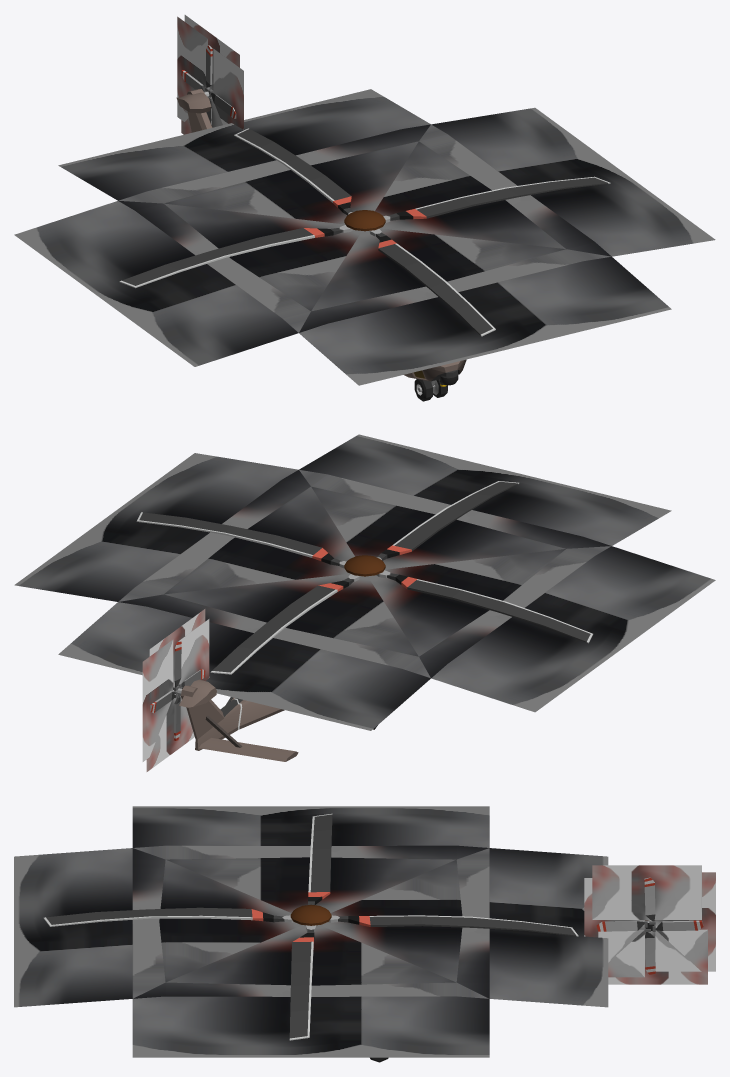
File: Helicopter.glb
3 views of the same model, one above another, from view 1: azimuth 30°, elevation 25°; view 2: azimuth 150°, elevation 25°; view 3: azimuth 270°, elevation 25° (orthographic).
Parts seen in each view (by area): view 1: RotorBlur (×4), TopRotor, RotorBlurBack (×3), Nh90Body, TailRotor; view 2: RotorBlur (×4), TopRotor, RotorBlurBack (×4), Nh90Body, TailRotor; view 3: RotorBlur (×4), RotorBlurBack (×4), TopRotor, TailRotor, Nh90Body.
Part boxes in pixels (x1,y1,x2,y2): RotorBlur (×4): (14, 89, 715, 385); TopRotor: (119, 128, 610, 336); RotorBlurBack (×3): (177, 15, 243, 129); Nh90Body: (176, 89, 466, 386); TailRotor: (181, 45, 236, 124); RotorBlur (×4): (14, 434, 715, 730); TopRotor: (136, 481, 593, 674); RotorBlurBack (×4): (142, 609, 209, 771); Nh90Body: (179, 555, 385, 761); TailRotor: (150, 641, 205, 740); RotorBlur (×4): (14, 806, 608, 1057); RotorBlurBack (×4): (584, 865, 715, 984); TopRotor: (43, 813, 578, 1040); TailRotor: (596, 877, 703, 974); Nh90Body: (290, 904, 655, 927).
Bounding box in the file's own units: 20.57 × 6.98 × 24.29.
Materials: 5 (3 with a texture image).
